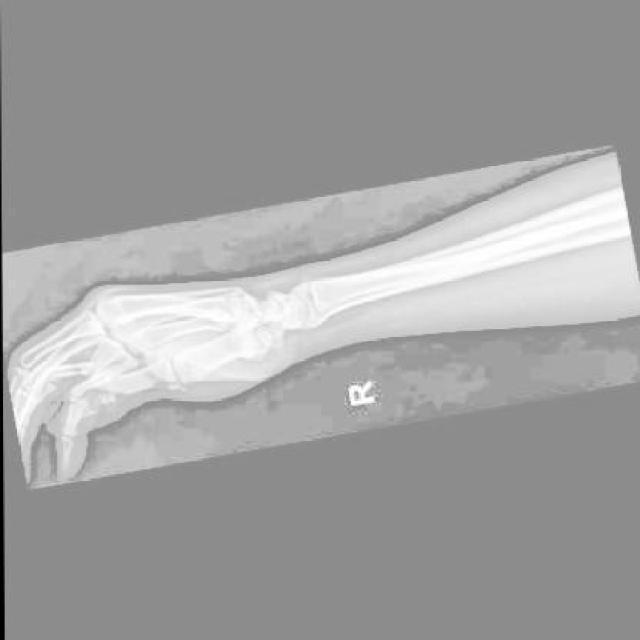Fracture: (83, 365, 125, 398), (76, 352, 113, 386)
